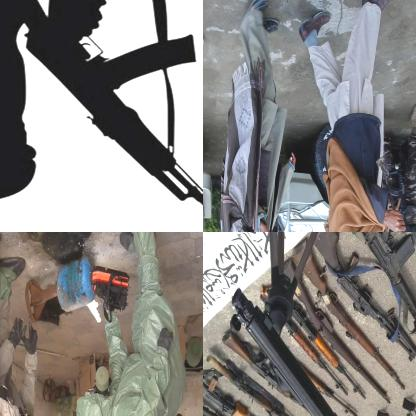rifle: (21, 0, 202, 231), (286, 258, 394, 408), (304, 257, 408, 395), (317, 232, 415, 363), (284, 289, 369, 404), (340, 232, 415, 359), (223, 332, 306, 411), (207, 355, 302, 415), (285, 317, 348, 399), (203, 372, 283, 415), (203, 383, 257, 415)
